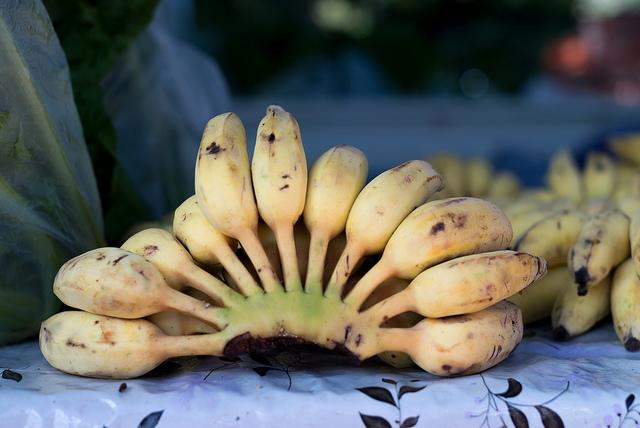banana: (343, 197, 513, 310), (325, 160, 446, 302), (194, 112, 284, 293), (357, 250, 548, 332), (54, 247, 230, 332), (346, 300, 524, 376), (40, 310, 226, 380), (251, 103, 308, 294), (120, 228, 246, 308), (302, 144, 368, 295), (172, 194, 266, 296), (567, 208, 630, 296), (552, 268, 616, 342), (514, 209, 590, 269), (342, 253, 413, 313), (504, 264, 572, 325), (506, 198, 578, 252), (323, 228, 367, 294), (610, 257, 640, 352), (376, 312, 426, 369), (258, 212, 286, 292), (140, 311, 219, 336), (501, 190, 558, 220), (552, 154, 582, 206), (584, 150, 615, 199), (431, 155, 463, 196), (294, 212, 310, 290), (611, 162, 640, 204), (610, 132, 640, 170), (465, 159, 491, 197), (487, 170, 522, 198), (628, 207, 640, 280)
